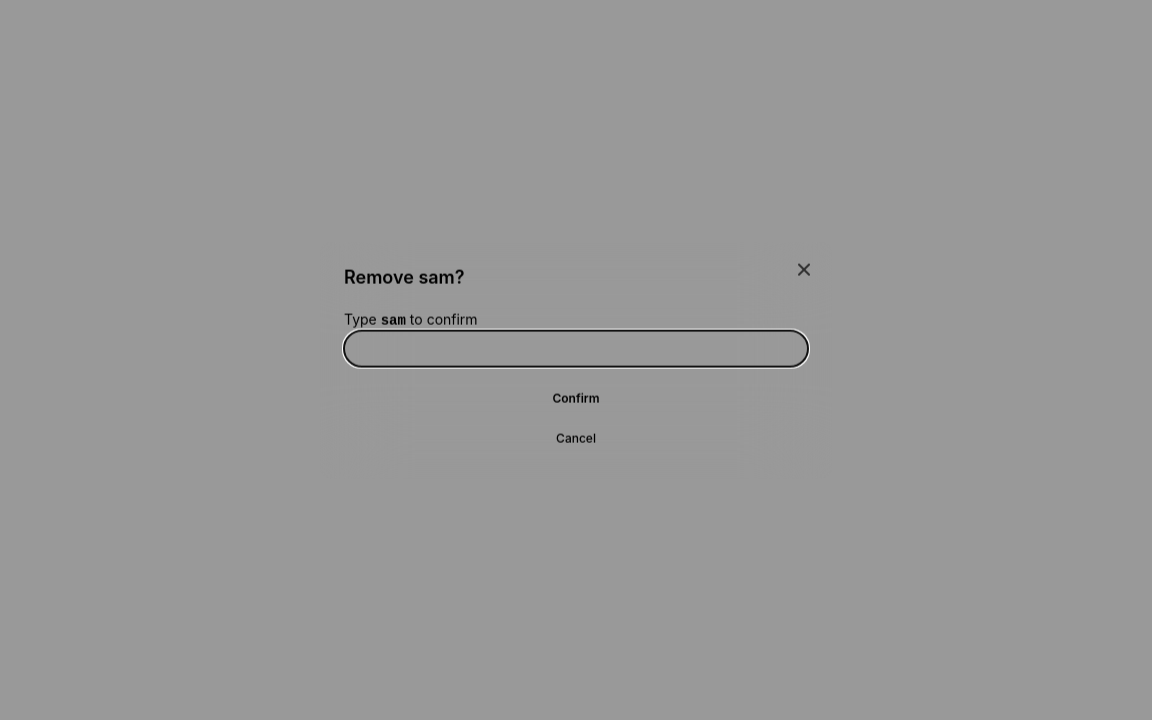
Scenario: ConfirmDialogHost › starts every typed question empty, whatever was typed for the one before
Type "sam" into the field labelled "Type sam to confirm" at (576, 348), box [344,330,808,366]
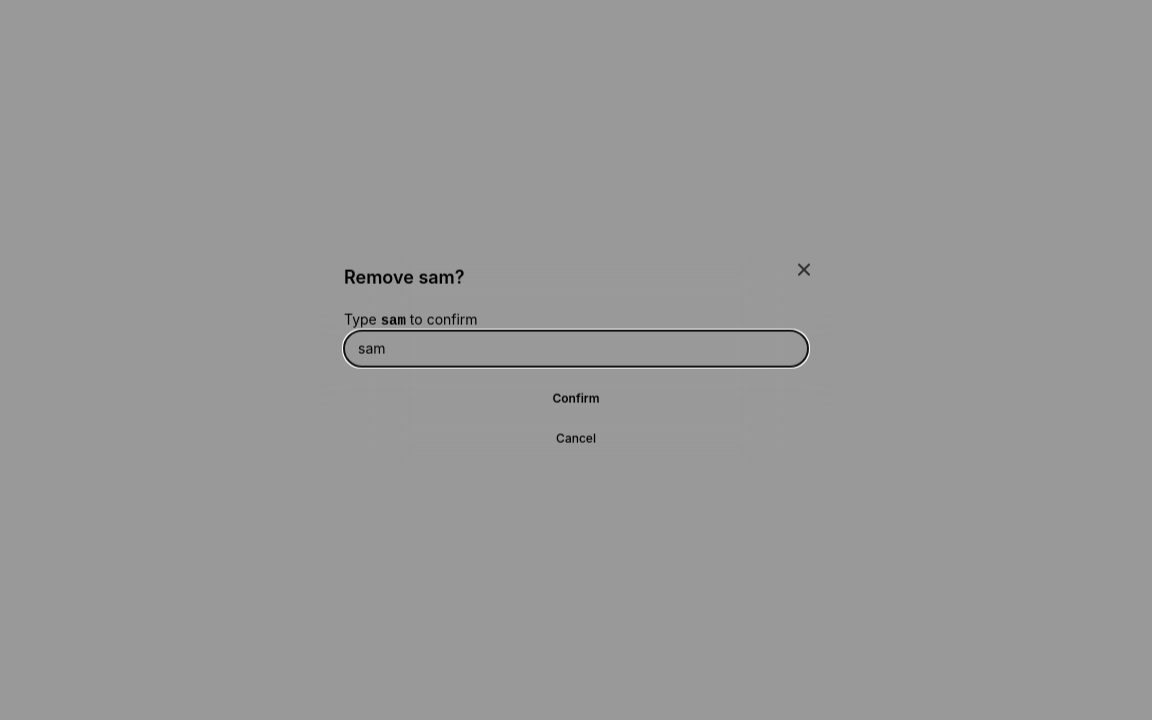
Click the button "Cancel" at (576, 438), box [344,422,808,454]
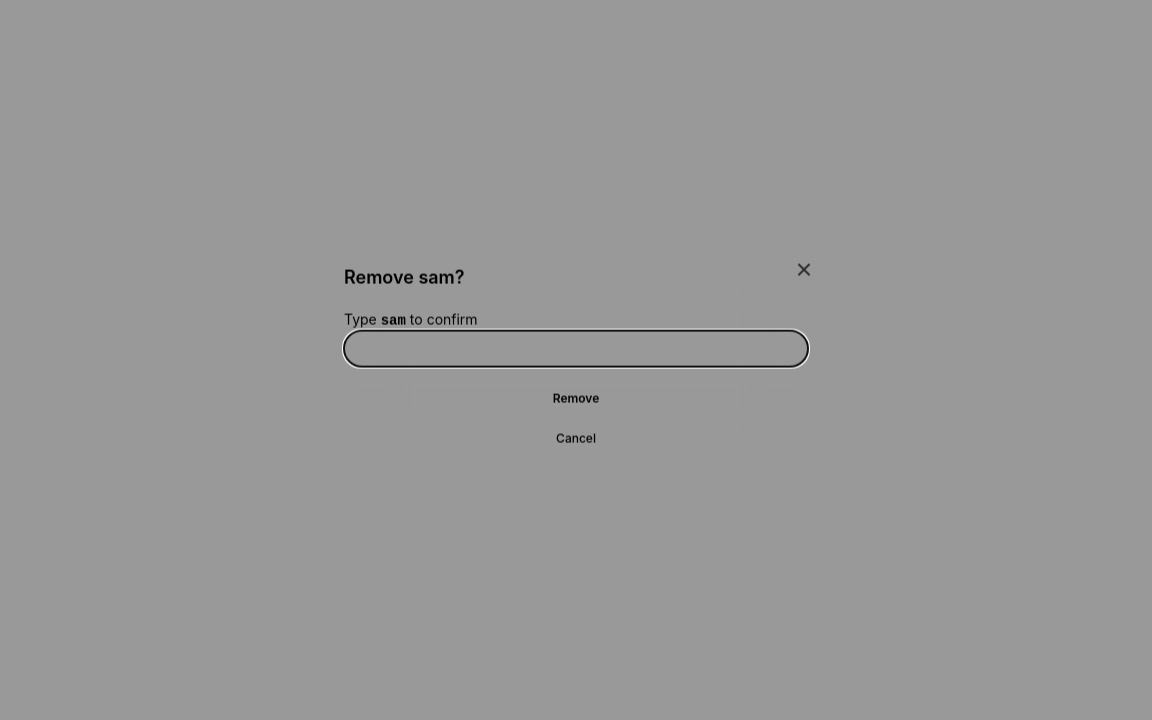
Now the field labelled "Type sam to confirm" is empty, box [344,330,808,366]
Now the button "Remove" is disabled, box [344,382,808,414]
